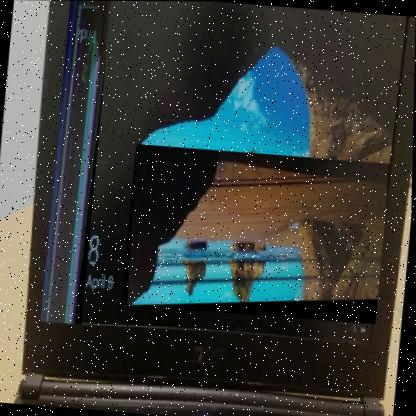lines: (122, 144, 392, 325), (41, 0, 113, 327)
